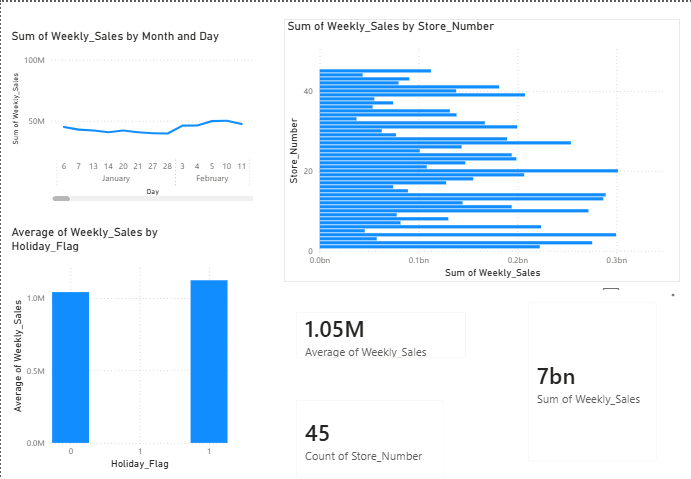

The page's visual inventory and layout, read from the dashboard file:
{"tool":"powerbi","page":{"name":"Page 1","canvas":[1280,720],"ordinal":0},"visuals":[{"type":"lineChart","fields":{"Category":["Walmart_sales_analysis.Date.Variation.Date Hierarchy.Month","Walmart_sales_analysis.Date.Variation.Date Hierarchy.Day"],"Y":["Sum(Walmart_sales_analysis.Weekly_Sales)"]},"box":[10,38.6,355.7,251.4],"z":0},{"type":"clusteredColumnChart","fields":{"Category":["Walmart_sales_analysis.Holiday_Flag"],"Y":["Avg(Walmart_sales_analysis.Weekly_Sales)"]},"box":[10,318.6,318.6,354.3],"z":1000},{"type":"clusteredBarChart","fields":{"Category":["Walmart_sales_analysis.Store_Number"],"Y":["Sum(Walmart_sales_analysis.Weekly_Sales)"]},"box":[404.3,24.3,565.7,375.7],"z":1001},{"type":"cardVisual","fields":{"Data":["Avg(Walmart_sales_analysis.Weekly_Sales)"]},"box":[404.3,425.7,277.1,100],"z":1002},{"type":"cardVisual","fields":{"Data":["Count(Walmart_sales_analysis.Store_Number)"]},"box":[404.3,551.4,245.7,145.7],"z":1003},{"type":"cardVisual","fields":{"Data":["Sum(Walmart_sales_analysis.Weekly_Sales)"]},"box":[735.7,411.4,218.6,261.4],"z":1004}]}

Visuals, with their boxes on the page's 1280x720 design canvas (x1, y1, x2, y2). These are canvas units, not pixel positions in the 691x479 screenshot, which may show the page scaled, cropped or inside an application window:
lineChart - Walmart_sales_analysis.Date.Variation.Date Hierarchy.Month x Walmart_sales_analysis.Date.Variation.Date Hierarchy.Day: x1=10, y1=39, x2=366, y2=290
clusteredColumnChart - Walmart_sales_analysis.Holiday_Flag x Avg(Walmart_sales_analysis.Weekly_Sales): x1=10, y1=319, x2=329, y2=673
clusteredBarChart - Walmart_sales_analysis.Store_Number x Sum(Walmart_sales_analysis.Weekly_Sales): x1=404, y1=24, x2=970, y2=400
cardVisual - Avg(Walmart_sales_analysis.Weekly_Sales): x1=404, y1=426, x2=681, y2=526
cardVisual - Count(Walmart_sales_analysis.Store_Number): x1=404, y1=551, x2=650, y2=697
cardVisual - Sum(Walmart_sales_analysis.Weekly_Sales): x1=736, y1=411, x2=954, y2=673
